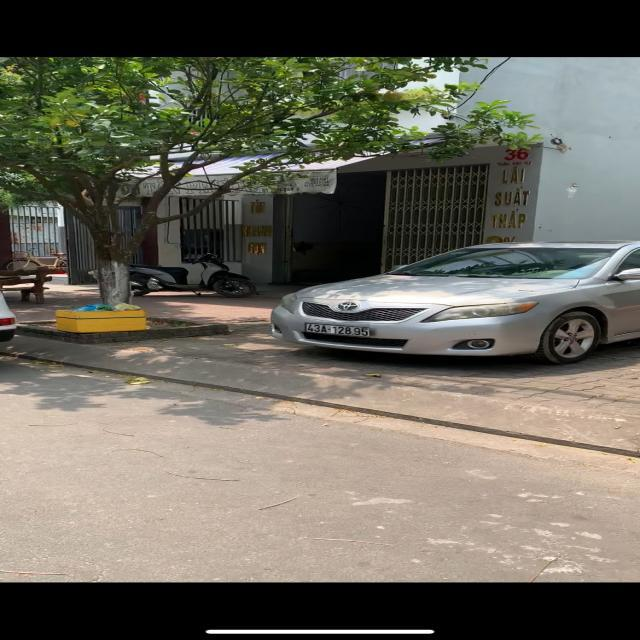car: (273, 237, 640, 376)
plate: (303, 317, 382, 346)
